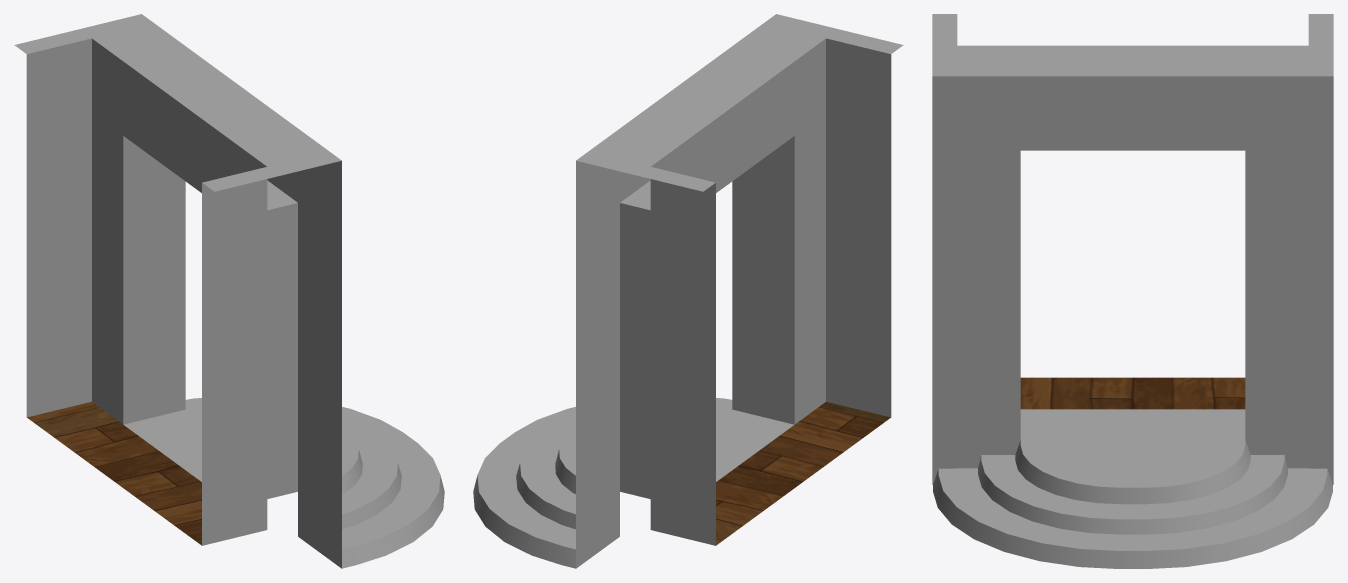
Rendered from Int_House_MainEntrance_01.fbx.
The picture shows the model from 3 angles, left to right: view 1: azimuth 30°, elevation 25°; view 2: azimuth 150°, elevation 25°; view 3: azimuth 270°, elevation 25°; orthographic projection.
Visible parts, largest first — view 1: Int_House_MainEntrance_01; view 2: Int_House_MainEntrance_01; view 3: Int_House_MainEntrance_01.
Part boxes in pixels (x1=…): Int_House_MainEntrance_01: x1=14, y1=14, x2=444, y2=568; Int_House_MainEntrance_01: x1=473, y1=14, x2=903, y2=568; Int_House_MainEntrance_01: x1=932, y1=14, x2=1333, y2=568.
Bounding box in the file's own units: 345 × 450 × 400.
Materials: 2 (1 with a texture image).
